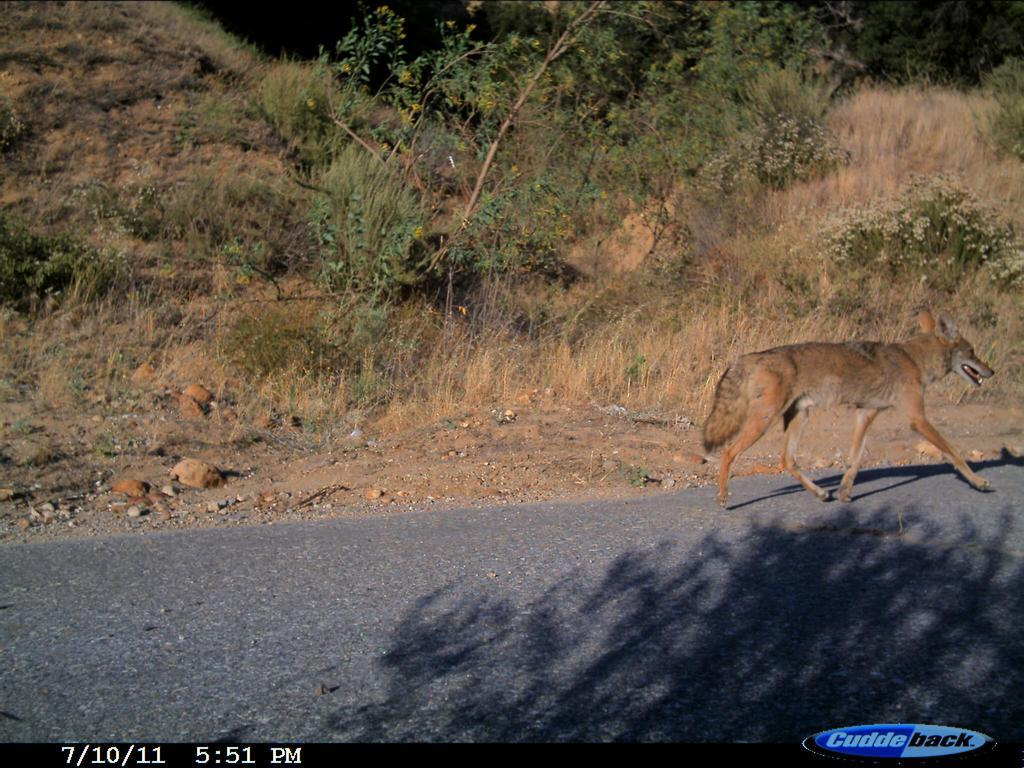coyote: (702, 299, 1001, 511)
